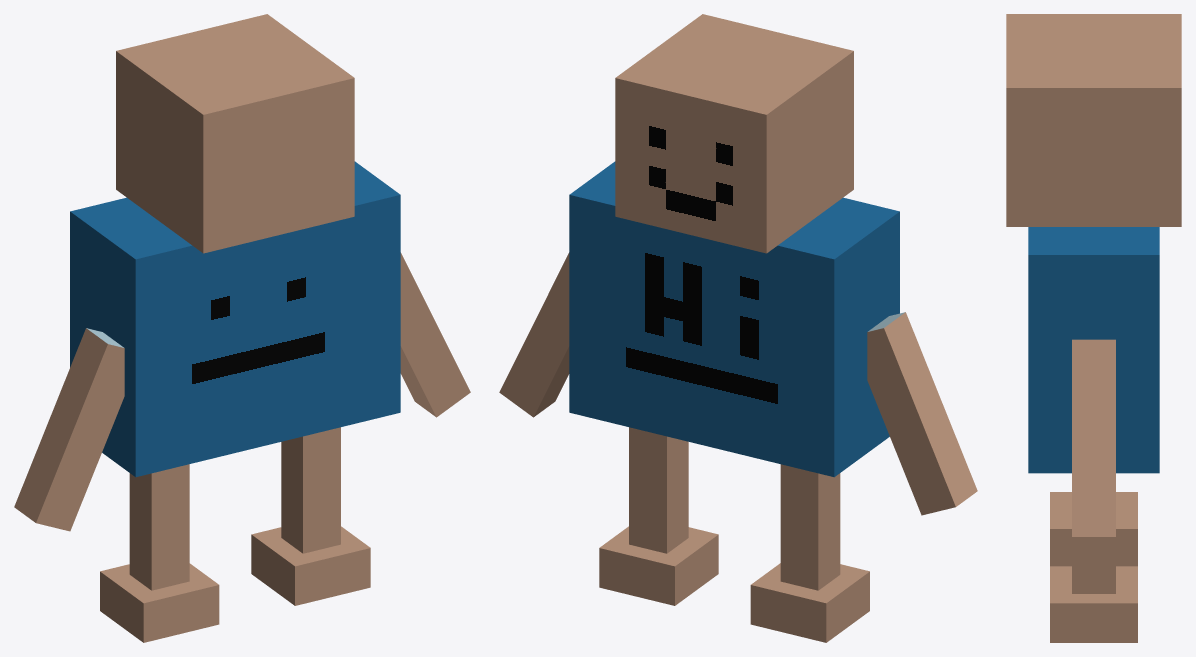
File: locals.obj
The picture shows the model from 3 angles, left to right: view 1: azimuth 30°, elevation 25°; view 2: azimuth 150°, elevation 25°; view 3: azimuth 270°, elevation 25°; orthographic projection.
Parts seen in each view (by area): view 1: cube; view 2: cube; view 3: cube.
Part boxes in pixels (box(x1,y1,x2,y2)): cube: box(14, 14, 470, 642); cube: box(499, 14, 977, 642); cube: box(1006, 14, 1181, 642).
Size of the model in its own units: 1.47 by 1.69 by 0.5.
Materials: 1 (1 with a texture image).
